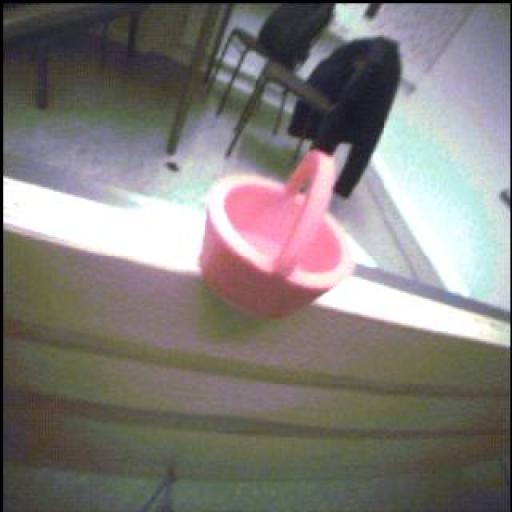Bucket: (199, 153, 357, 319)
